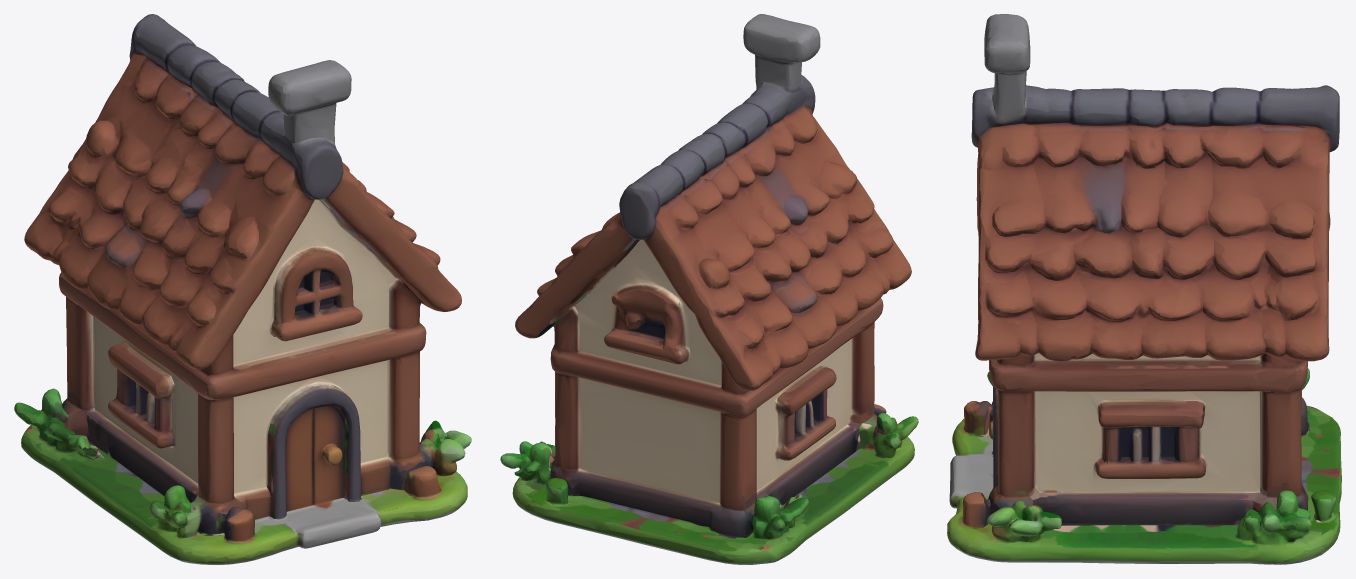
The model's file is building.glb.
3 renders of one model, left to right at view 1: azimuth 30°, elevation 25°; view 2: azimuth 150°, elevation 25°; view 3: azimuth 270°, elevation 25°, orthographic. The views are drawn at different scales.
Parts seen in each view (by area): view 1: building; view 2: building; view 3: building.
Boxes of the visible parts, x1=… form: building: x1=14, y1=14, x2=471, y2=564; building: x1=500, y1=14, x2=918, y2=564; building: x1=947, y1=14, x2=1341, y2=564.
Bounding box in the file's own units: 1.44 × 1.99 × 1.54.
Materials: 7 (7 with a texture image).
